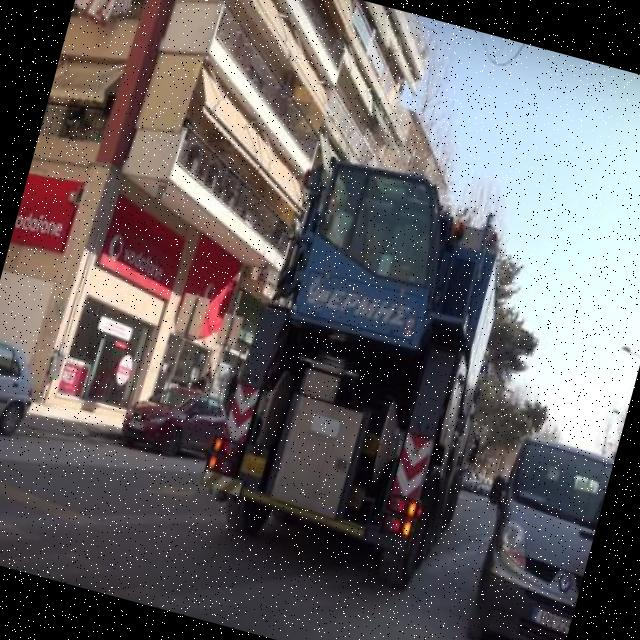Mobile Crane: (188, 142, 537, 596)
